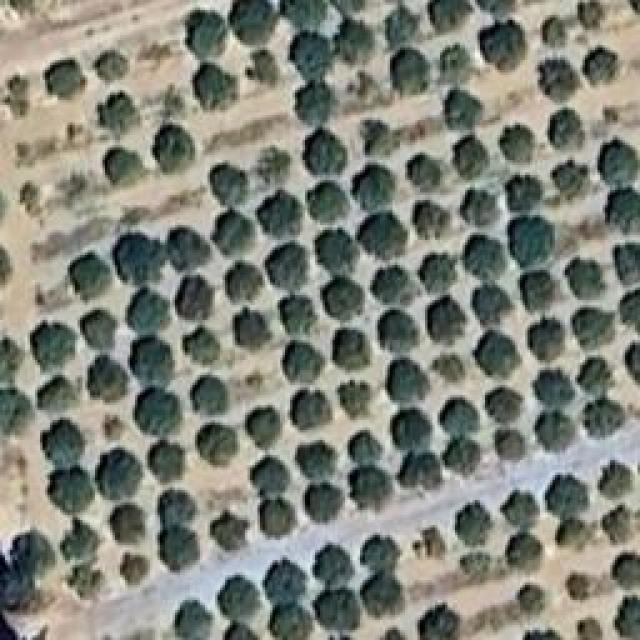Tree: (478, 15, 530, 70), (505, 213, 561, 261), (537, 50, 583, 105), (10, 528, 57, 580), (115, 233, 163, 283), (353, 163, 402, 211), (260, 240, 309, 288), (547, 108, 594, 157), (492, 118, 539, 167), (210, 208, 257, 256), (27, 318, 74, 366), (98, 450, 146, 497), (135, 390, 183, 437), (460, 235, 508, 282), (293, 80, 340, 127), (360, 213, 407, 260), (144, 440, 190, 488), (48, 467, 97, 512), (227, 0, 277, 44), (600, 134, 639, 190), (125, 292, 172, 338), (178, 320, 225, 366), (302, 128, 347, 176), (395, 450, 443, 495), (425, 298, 470, 346), (413, 600, 466, 640), (150, 125, 196, 171), (475, 330, 521, 376), (575, 305, 621, 351), (208, 163, 255, 208), (190, 60, 237, 105), (310, 543, 358, 587), (70, 253, 116, 298), (182, 15, 228, 60), (167, 222, 212, 268), (385, 355, 431, 400), (290, 28, 334, 75), (315, 590, 362, 634), (218, 578, 262, 625), (438, 395, 481, 443), (290, 440, 340, 481), (262, 560, 307, 605), (78, 302, 122, 348), (198, 422, 242, 468), (282, 341, 329, 384), (290, 383, 333, 430), (300, 477, 343, 524), (85, 358, 130, 402), (133, 337, 176, 383), (361, 572, 404, 618), (322, 275, 369, 317), (368, 265, 415, 307), (347, 466, 394, 508), (545, 475, 593, 516), (258, 190, 302, 234), (304, 180, 348, 224), (60, 517, 103, 562), (523, 317, 566, 362), (390, 408, 436, 450), (550, 160, 592, 206), (160, 525, 201, 572), (560, 253, 604, 296), (338, 20, 379, 66), (410, 198, 453, 241), (190, 376, 234, 418), (108, 500, 152, 542), (37, 425, 83, 465), (98, 93, 141, 135), (33, 375, 75, 418), (210, 510, 252, 553), (443, 90, 486, 132), (443, 435, 485, 478), (385, 5, 427, 48), (435, 43, 478, 85), (328, 330, 372, 371), (420, 248, 461, 292), (243, 403, 284, 446), (98, 145, 142, 185), (482, 385, 527, 424), (388, 50, 435, 87), (473, 283, 513, 326), (315, 228, 355, 271), (255, 142, 293, 187), (267, 602, 313, 639), (225, 260, 266, 301), (460, 188, 501, 229), (248, 453, 290, 493), (233, 305, 272, 348), (453, 500, 492, 543), (278, 293, 318, 334), (378, 310, 419, 350), (583, 398, 624, 438), (533, 373, 575, 412), (503, 490, 541, 533), (405, 148, 445, 188), (538, 413, 578, 453), (175, 600, 216, 639), (175, 275, 216, 314), (580, 353, 619, 394), (505, 173, 546, 212), (355, 118, 396, 157), (243, 45, 281, 87), (68, 560, 108, 599), (345, 430, 386, 468), (364, 535, 406, 572), (43, 60, 86, 95), (600, 461, 635, 504), (338, 380, 376, 419), (505, 533, 546, 569), (428, 353, 470, 388), (279, 0, 326, 31), (450, 135, 488, 173), (427, 0, 471, 32), (260, 500, 297, 538), (540, 15, 576, 54), (158, 490, 195, 526), (603, 508, 637, 545), (585, 43, 618, 81), (608, 188, 640, 225), (117, 550, 151, 584), (412, 523, 445, 558), (0, 388, 22, 440), (610, 245, 639, 284), (462, 552, 495, 585), (92, 50, 126, 82), (495, 427, 529, 459), (615, 553, 640, 596), (615, 597, 640, 640), (0, 335, 22, 380), (215, 617, 253, 640), (572, 0, 606, 24), (513, 578, 542, 605), (478, 0, 529, 15), (568, 568, 593, 598), (573, 620, 606, 640)
